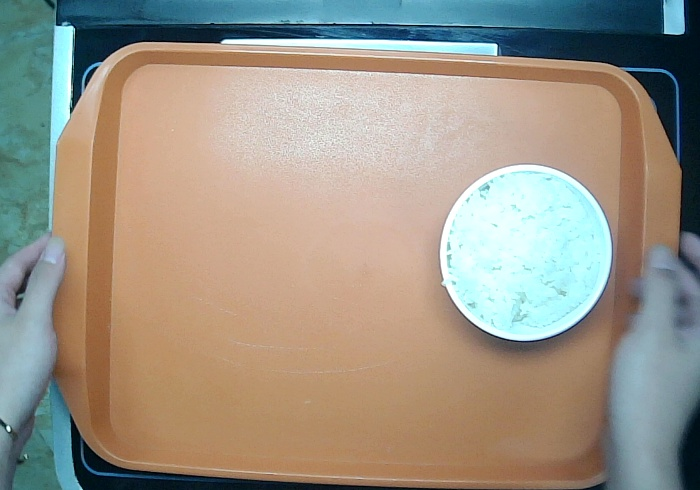HZYJPL-Fan_Wan: (427, 141, 623, 351)
